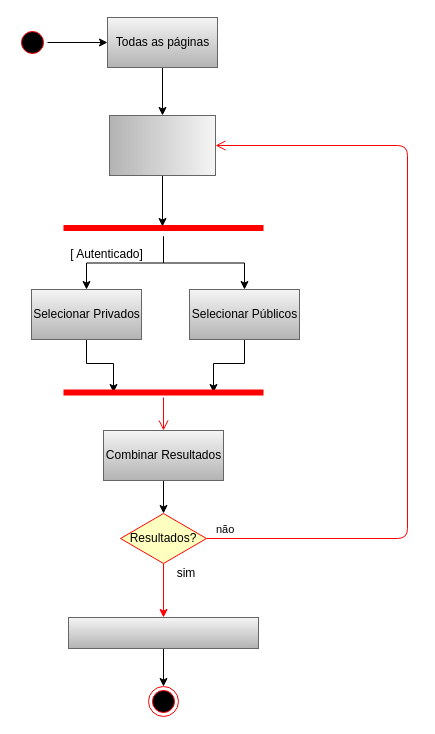
Image size: 435x734. Some labels were removed from this diagram. Here are the shapes that lost their labels. From the top down, the centre of each, then its label:
At pixel 162 145: "Selecionar Critérios de pesquisa".
At pixel 163 632: "Mostrar resultados com etiquetas".
